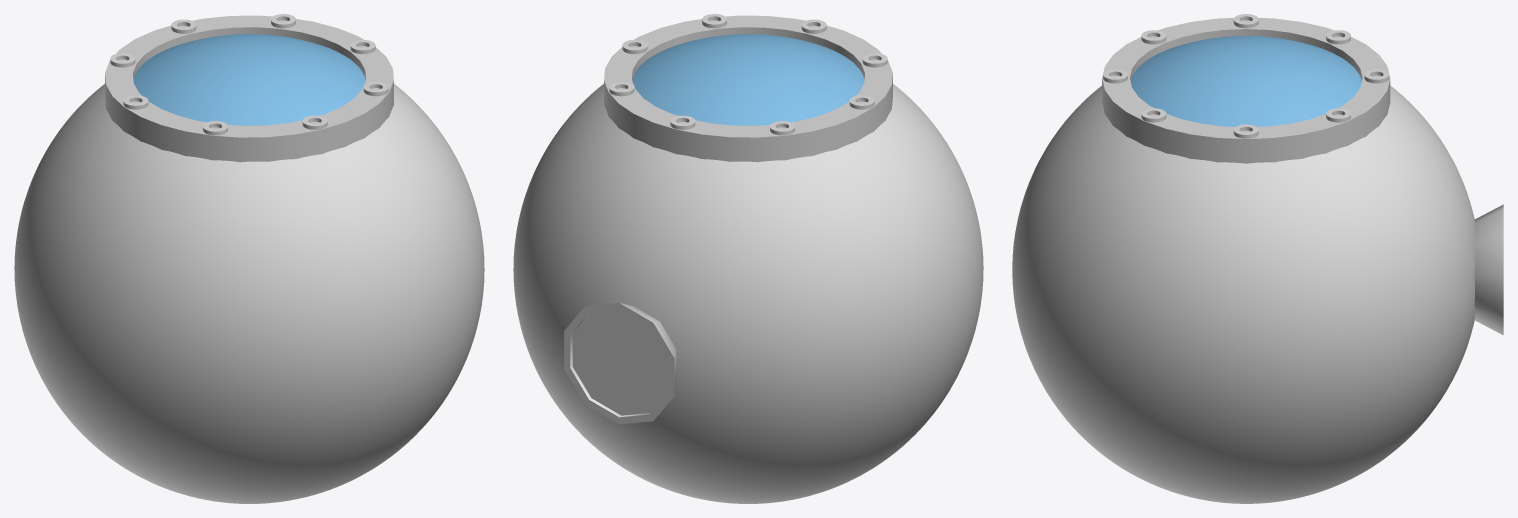
File: LD48_Submarine_Mesh.fbx
3 renders of one model, left to right at view 1: azimuth 30°, elevation 25°; view 2: azimuth 150°, elevation 25°; view 3: azimuth 270°, elevation 25°, orthographic.
Visible parts, largest first — view 1: Circle.001; view 2: Circle.001; view 3: Circle.001.
Boxes of the visible parts, box(x1,y1,x2,y2) form: Circle.001: box(14, 14, 484, 503); Circle.001: box(513, 14, 983, 503); Circle.001: box(1012, 14, 1503, 503).
Bounding box in the file's own units: 1.71 × 1.71 × 1.8.
